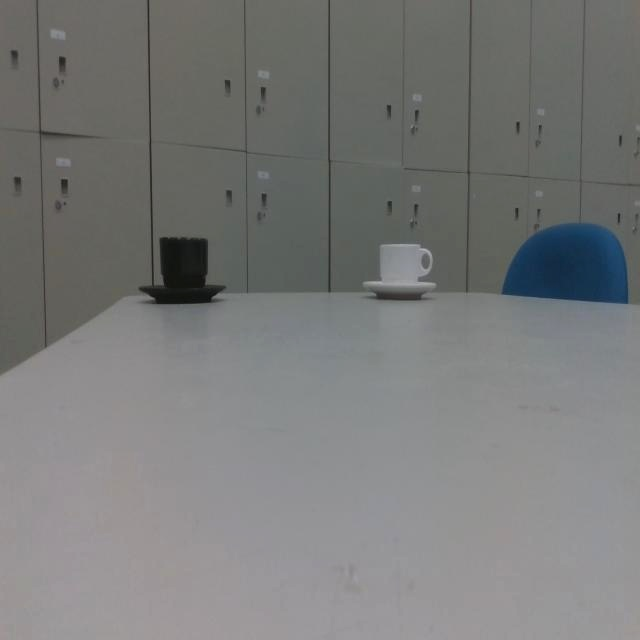black: (139, 234, 228, 305)
white: (363, 241, 438, 304)
